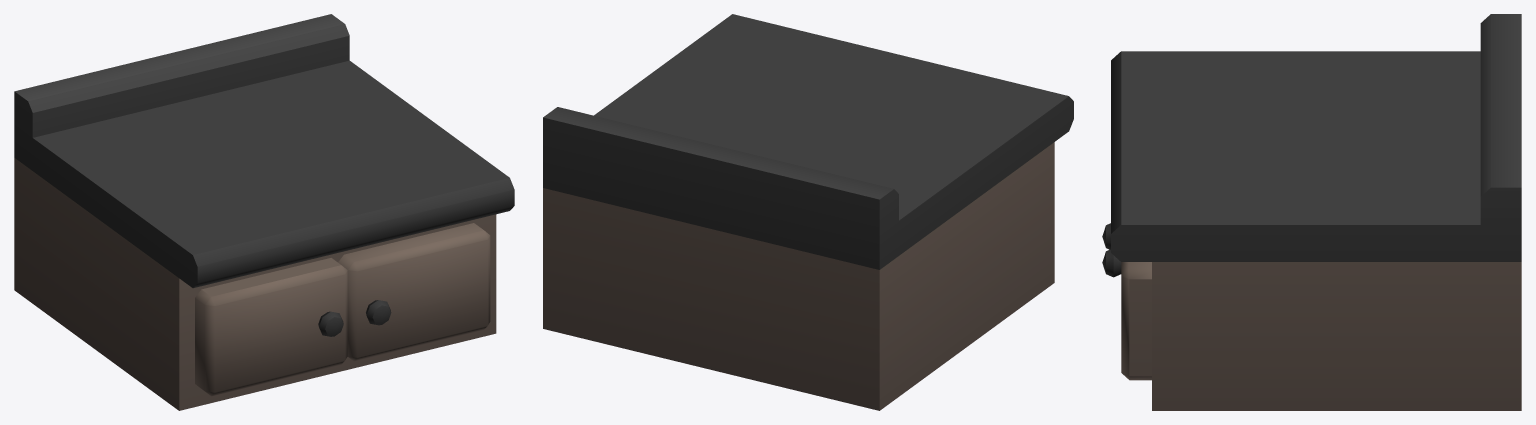
The model's file is kitchencounter_straight_B_backsplash_styleB.obj.
The picture shows the model from 3 angles, left to right: view 1: azimuth 30°, elevation 25°; view 2: azimuth 150°, elevation 25°; view 3: azimuth 270°, elevation 25°; orthographic projection. The views are drawn at different scales.
Parts seen in each view (by area): view 1: kitchencounter_straight_B_backsplash_styleB_Cube.031; view 2: kitchencounter_straight_B_backsplash_styleB_Cube.031; view 3: kitchencounter_straight_B_backsplash_styleB_Cube.031.
Part boxes in pixels (<box>): kitchencounter_straight_B_backsplash_styleB_Cube.031: <box>14,14,514,410</box>; kitchencounter_straight_B_backsplash_styleB_Cube.031: <box>543,14,1073,410</box>; kitchencounter_straight_B_backsplash_styleB_Cube.031: <box>1102,14,1521,410</box>.
Bounding box in the file's own units: 2 × 1.2 × 2.04.
Materials: 1 (1 with a texture image).
